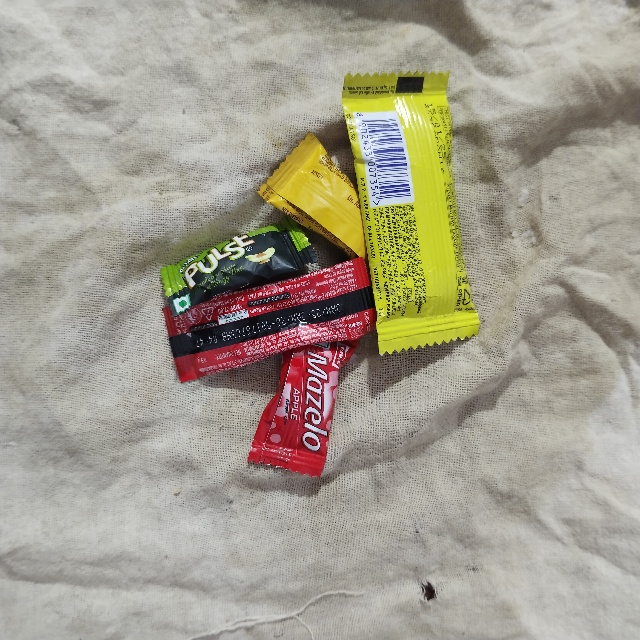Alpenlibe Creamfills: (255, 187, 336, 310)
Mazelo: (246, 465, 402, 538)
Nescafe Coffee: (155, 317, 386, 395)
Orbit: (343, 74, 448, 356)
Pulse: (150, 258, 305, 315)
